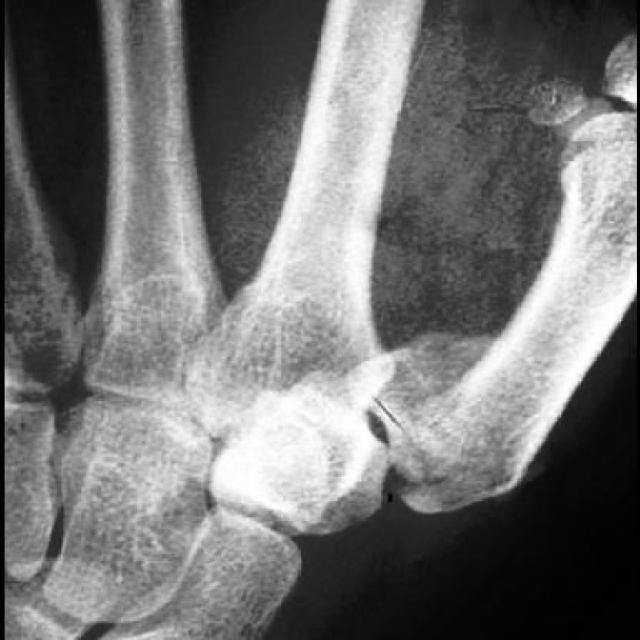Fracture: (360, 314, 549, 519)
